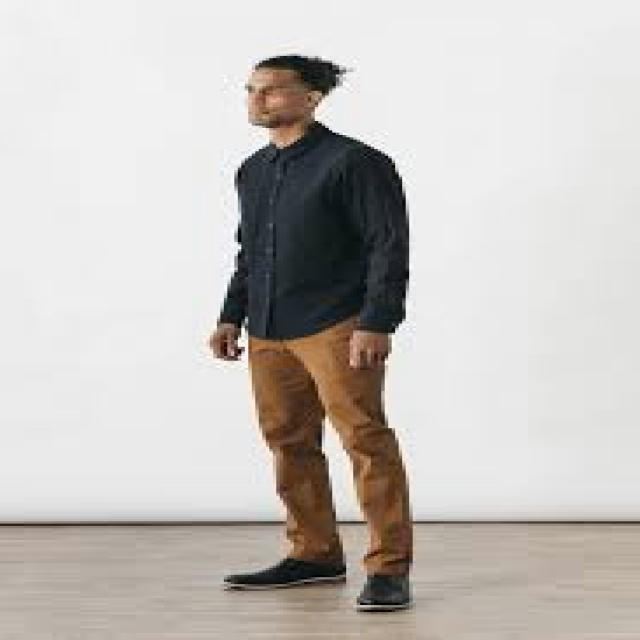adult: (182, 38, 462, 614)
